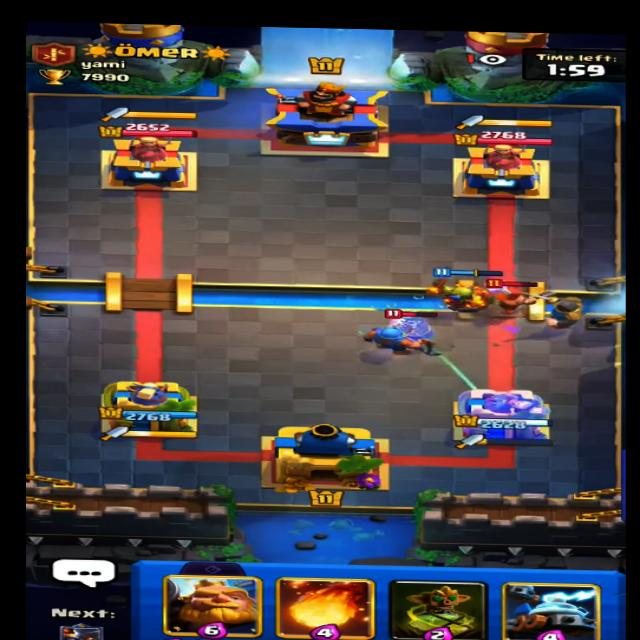lumberjack: (475, 275, 544, 315)
monk: (378, 306, 438, 347)
monk-ability: (378, 307, 435, 348)
